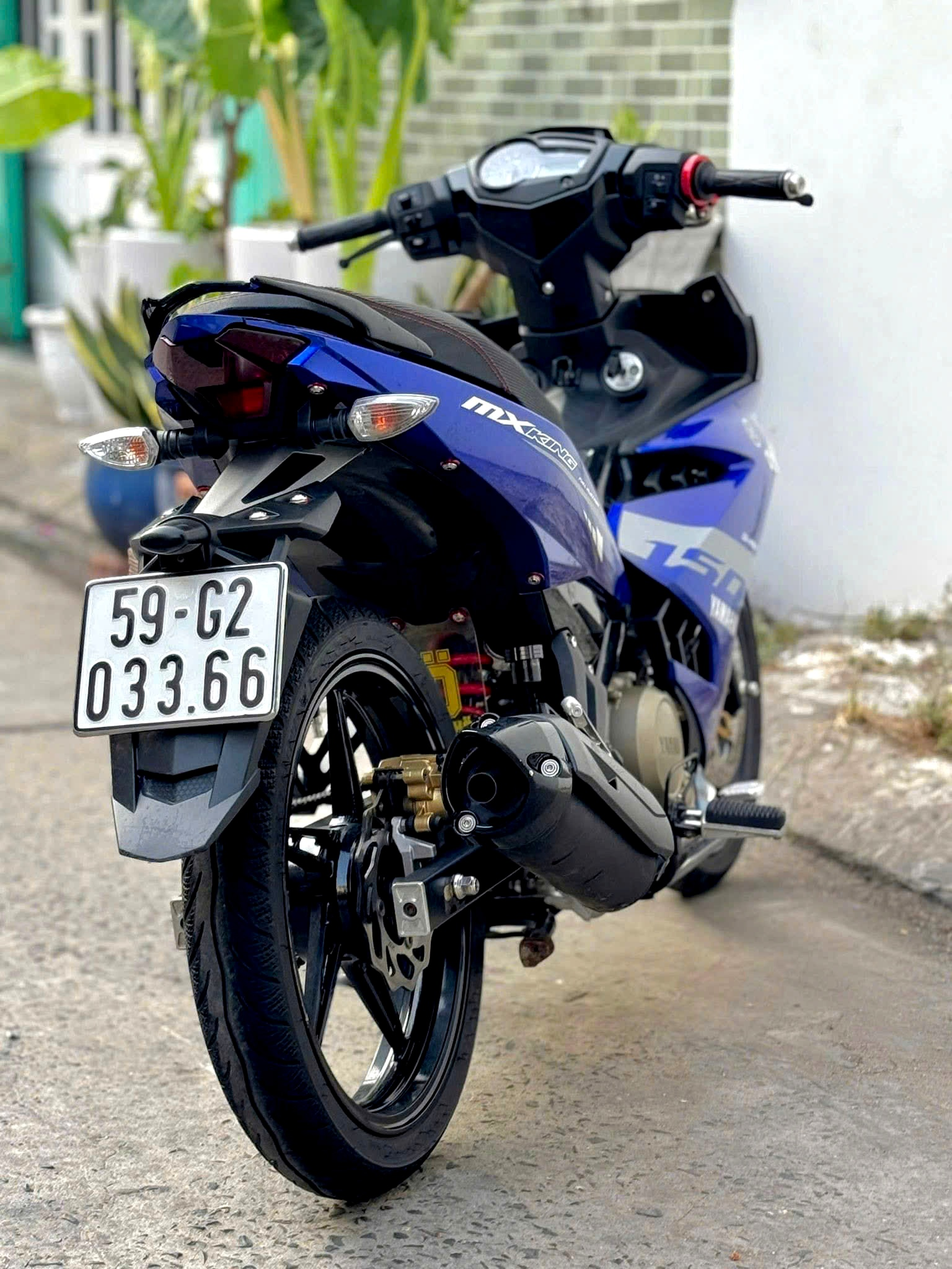Bien-so: (90, 583, 309, 760)
